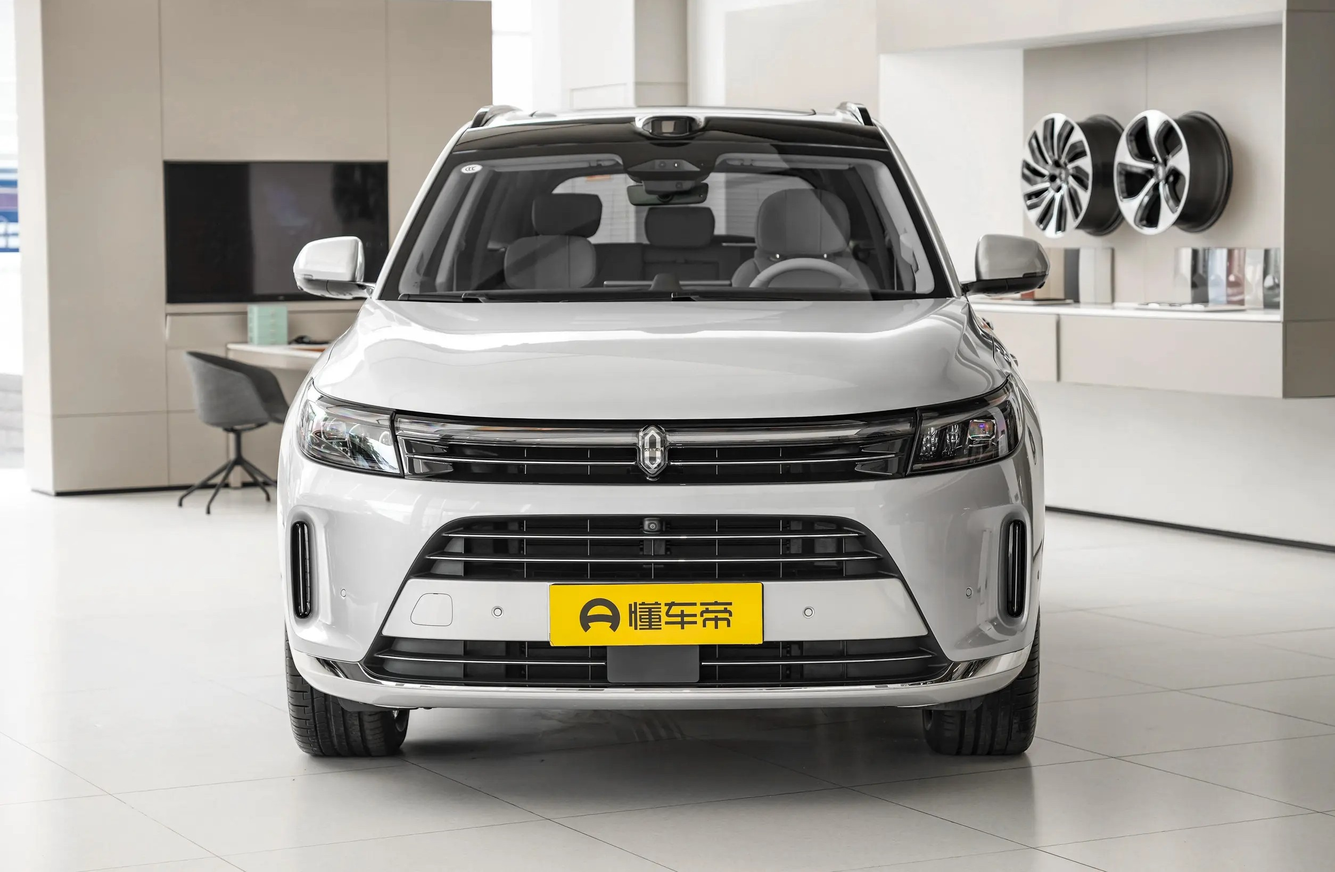AITO: (641, 426, 664, 472)
